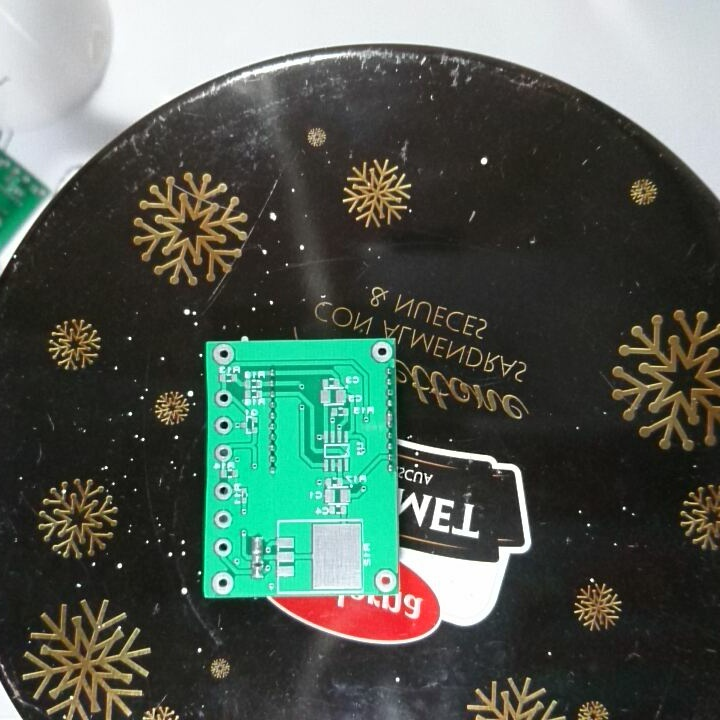F: (372, 566, 398, 593), (209, 569, 234, 595), (211, 343, 237, 367), (370, 340, 394, 363), (211, 535, 234, 559), (212, 508, 235, 530), (212, 480, 234, 503), (212, 415, 234, 436), (213, 388, 234, 409), (213, 442, 233, 462)
P: (250, 535, 267, 566), (383, 408, 394, 430)
